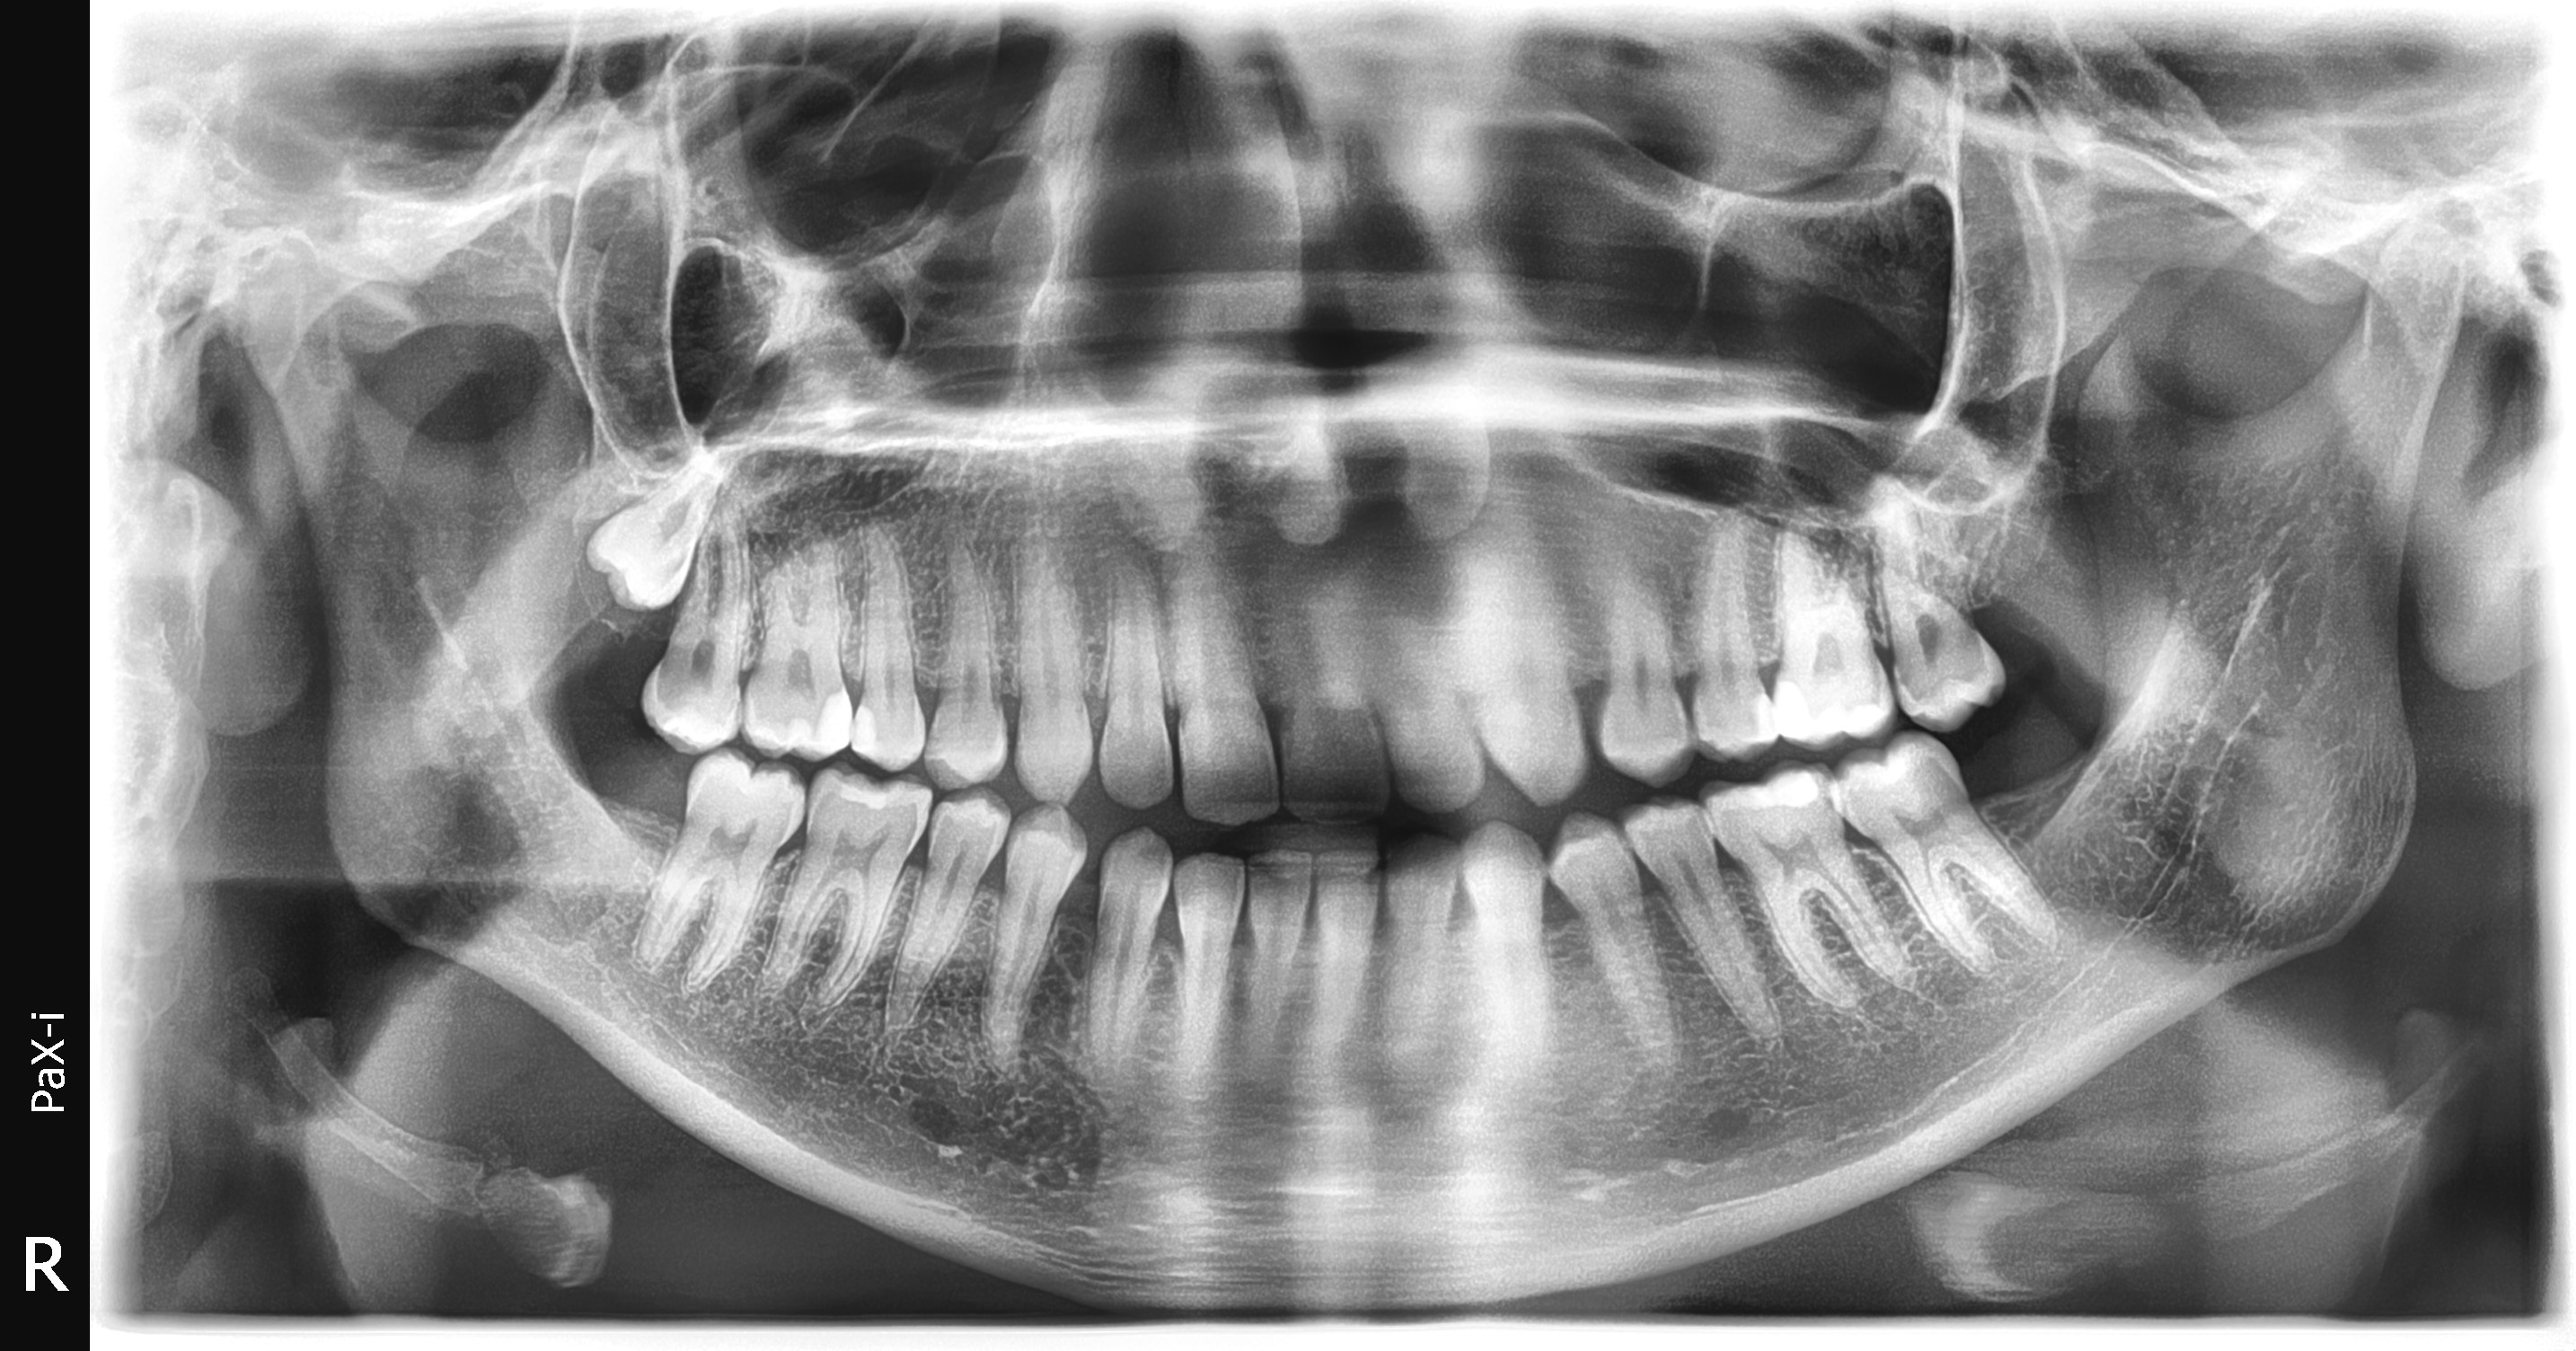IMT: (230, 129, 951, 741)
OBT: (797, 361, 2576, 1179), (852, 320, 2576, 1068), (871, 317, 2576, 1058), (412, 329, 1293, 1087), (319, 313, 1169, 1075), (307, 339, 1031, 1094)
